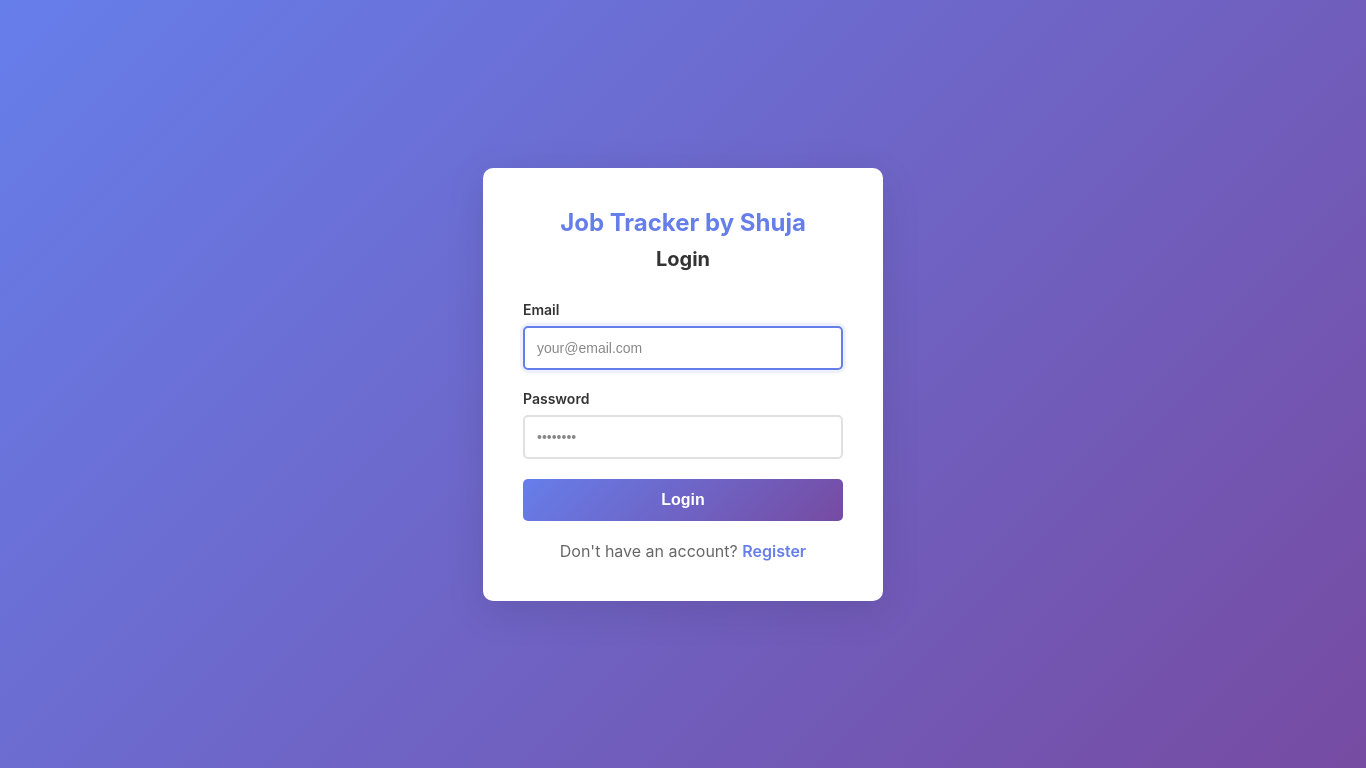
it: Login Component › Error Handling › displays error message on login failure
Type "test@example.com" into the field with placeholder "your@email.com" at point(683, 348), box [523,326,843,370]
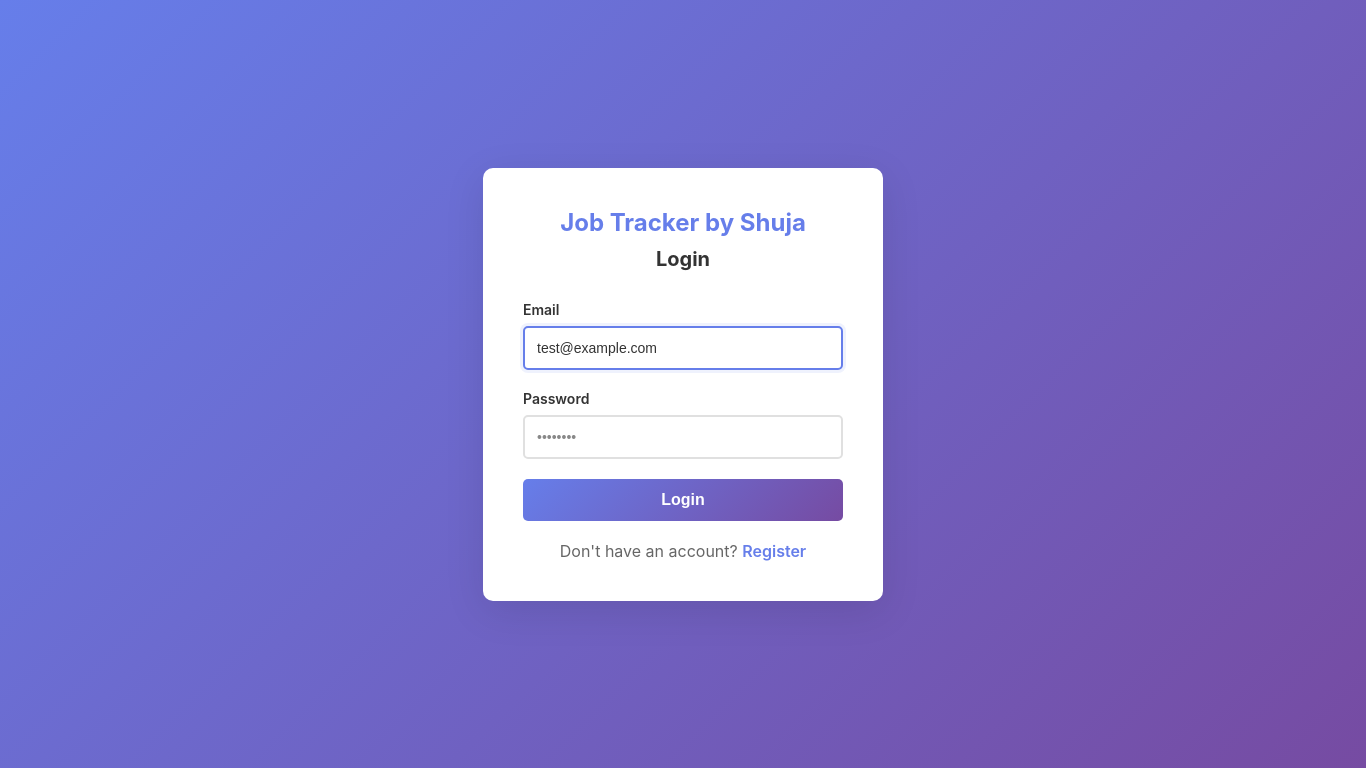
Type "wrongpassword" into the password field with placeholder "••••••••" at point(683, 436), box [523,414,843,458]
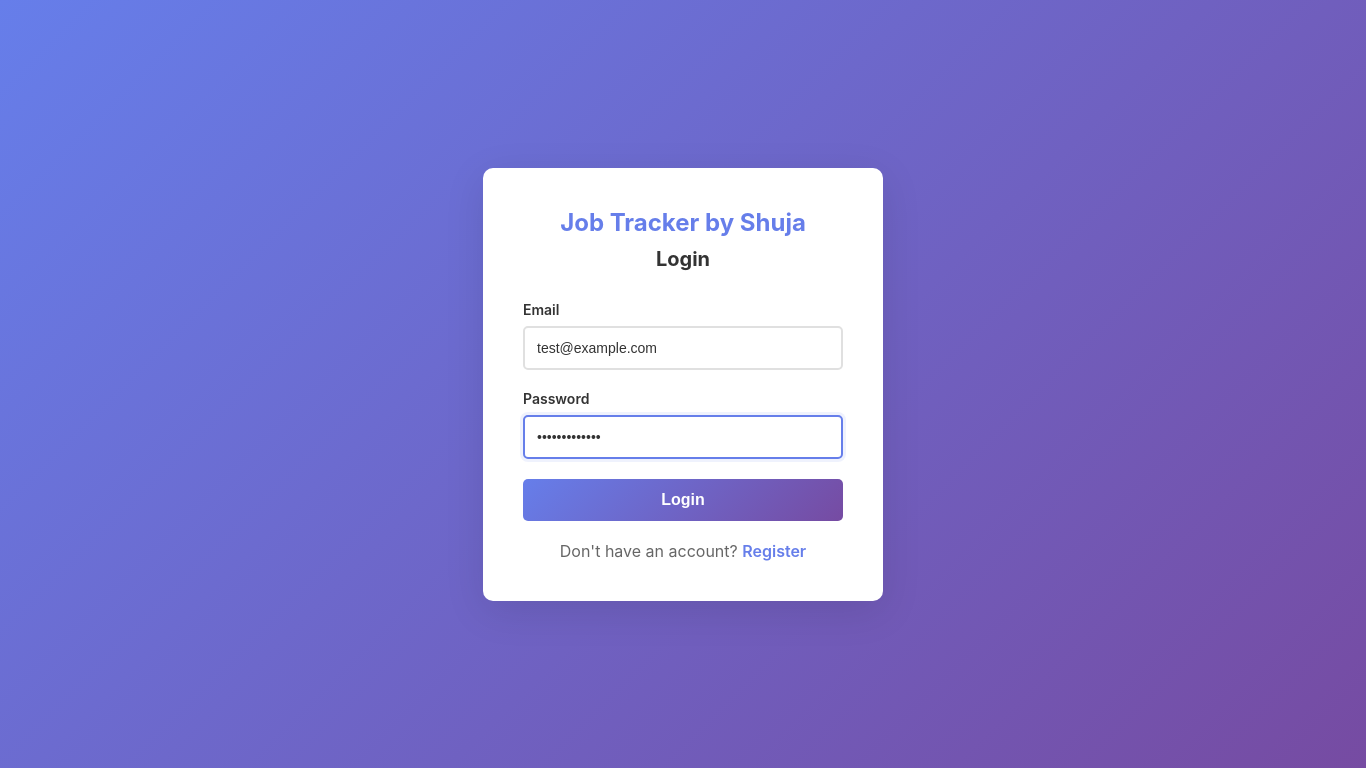
Click the button "Login" at point(683, 500), box [523,478,843,520]
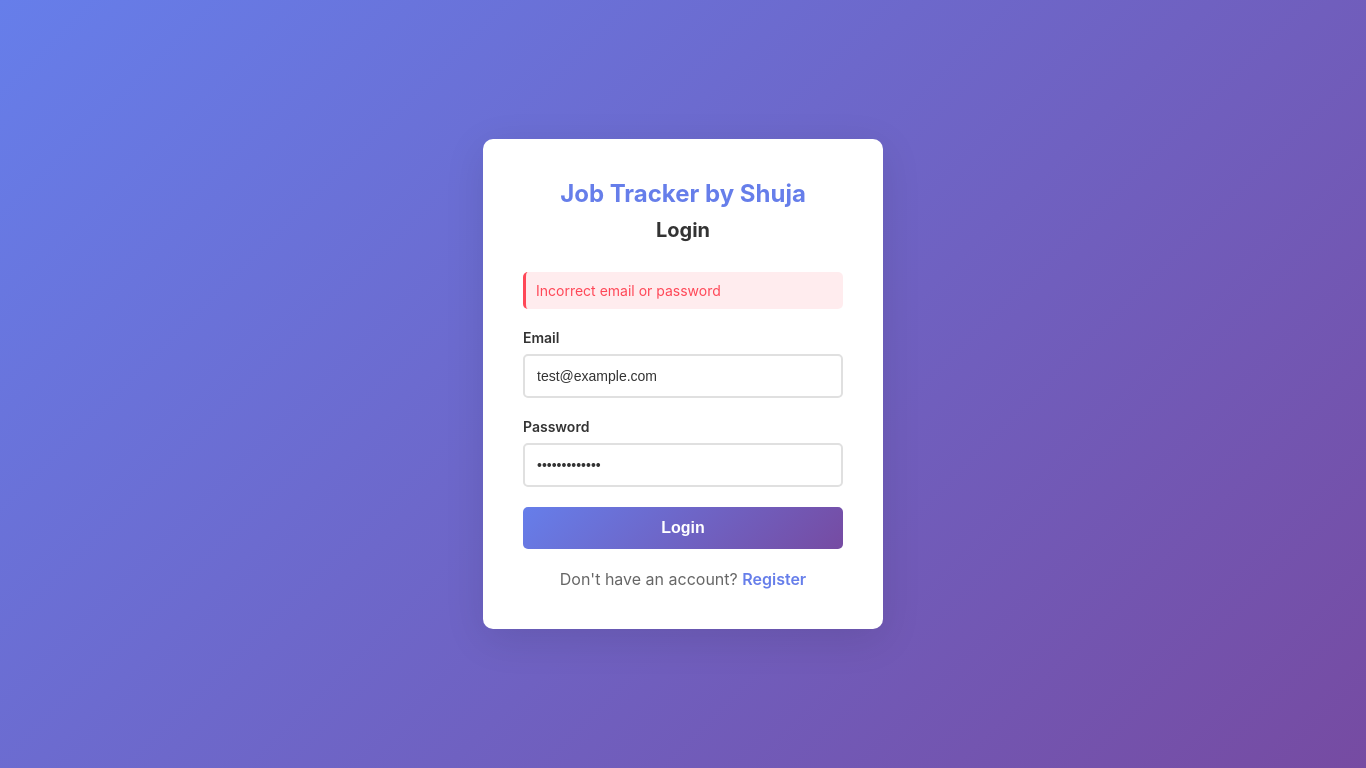
Expected: the text "Incorrect email or password" is shown, [523,272,843,309]
